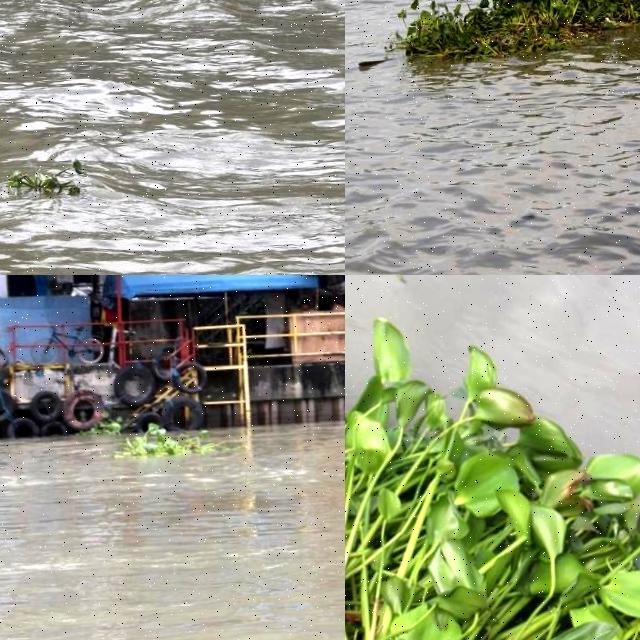water-hyacinth: (346, 319, 640, 640), (380, 1, 640, 88), (1, 151, 92, 208), (116, 424, 230, 461)
